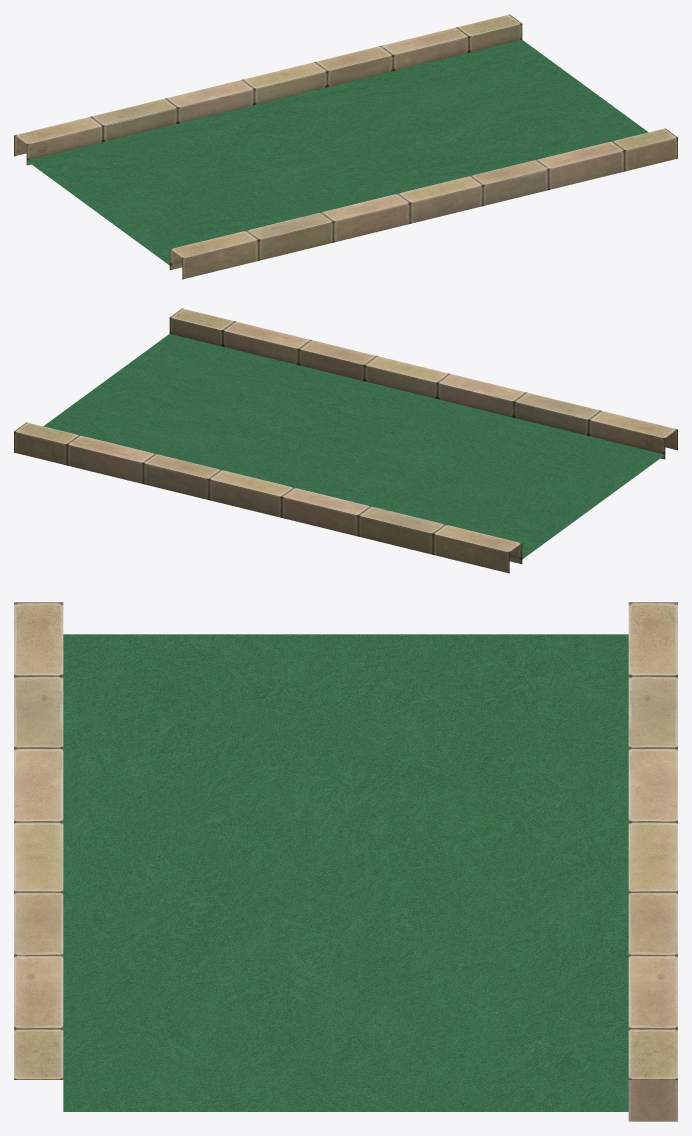
The model's file is CourseStraightMedium_Col.fbx.
3 views of the same model, one above another, from view 1: azimuth 30°, elevation 25°; view 2: azimuth 150°, elevation 25°; view 3: azimuth 270°, elevation 25° (orthographic). The views are drawn at different scales.
Visible parts, largest first — view 1: CourseStraightMedium_Col; view 2: CourseStraightMedium_Col; view 3: CourseStraightMedium_Col.
Part boxes in pixels (box(x1,y1,x2,y2)): CourseStraightMedium_Col: box(14, 14, 677, 279); CourseStraightMedium_Col: box(14, 308, 677, 573); CourseStraightMedium_Col: box(14, 602, 677, 1121).
Bounding box in the file's own units: 470 × 32.5 × 800.
